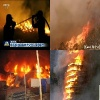fire: (0, 62, 50, 87), (65, 50, 82, 99), (66, 23, 91, 49), (15, 20, 33, 34), (45, 28, 50, 34)
